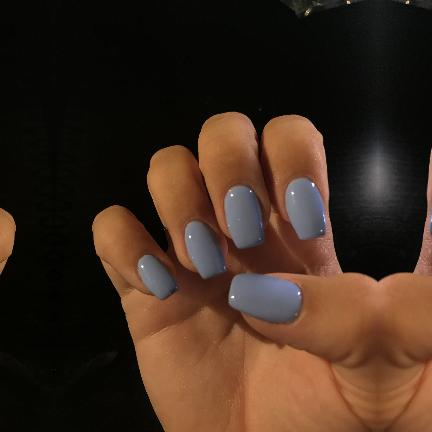Nail: (228, 273, 302, 324), (224, 186, 265, 249), (285, 178, 326, 240), (185, 221, 226, 279), (138, 254, 179, 300), (430, 206, 432, 235)
